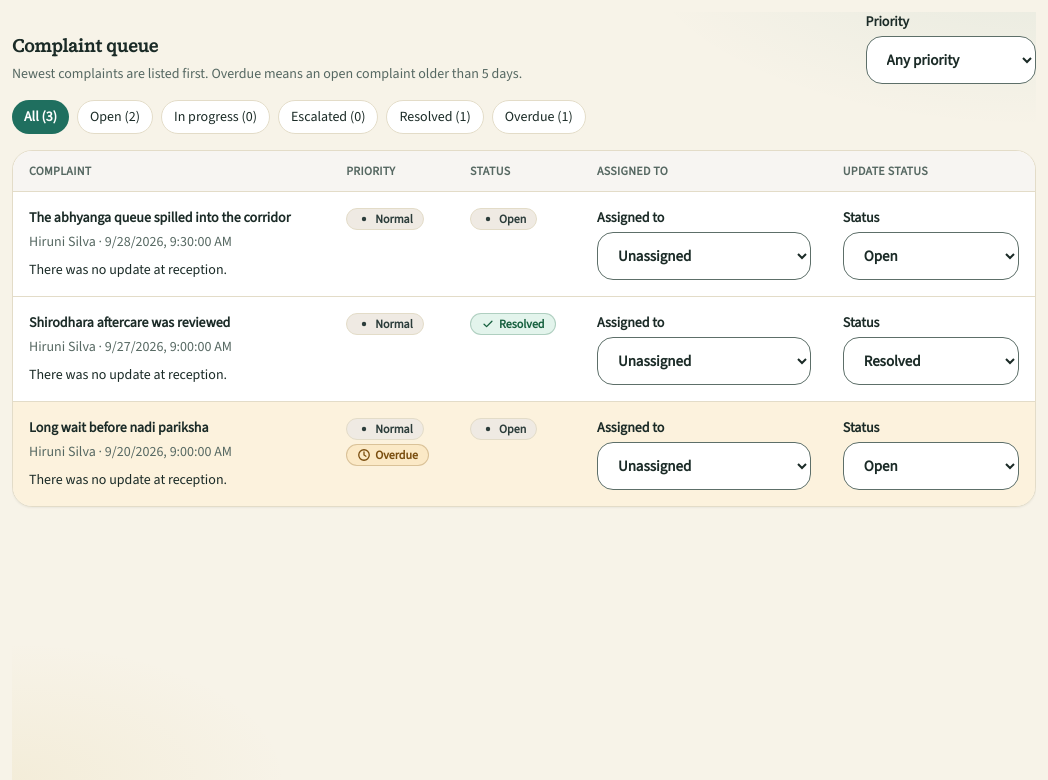
Test: ComplaintQueuePage › defaults to every complaint, newest first, with a count on each chip
expect the heading "The abhyanga queue spilled into the corridor" is shown: met, box [29,208,314,228]
expect the heading "Long wait before nadi pariksha" is shown: met, box [29,418,208,437]
Click the button "Overdue (1)" at (539, 117), box [492,100,586,134]
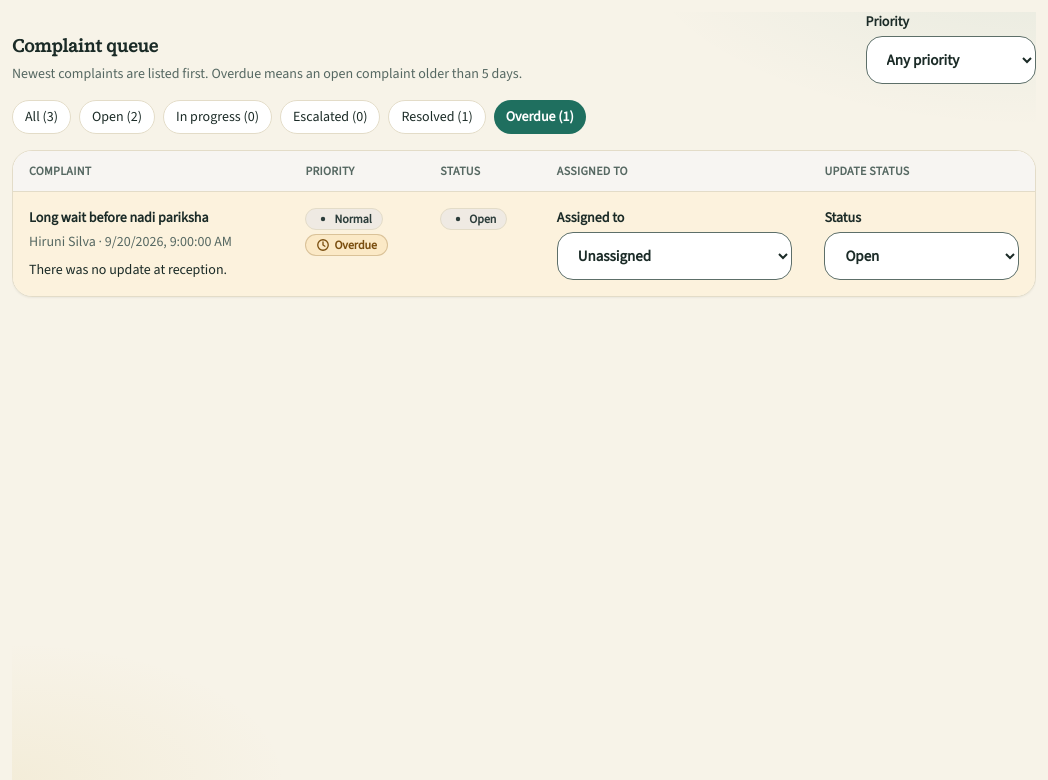
expect the heading "Long wait before nadi pariksha" is shown: met, box [29,208,208,227]
expect the heading "The abhyanga queue spilled into the corridor" is gone: met
Click the button "All (3)" at (42, 117), box [12,100,71,134]
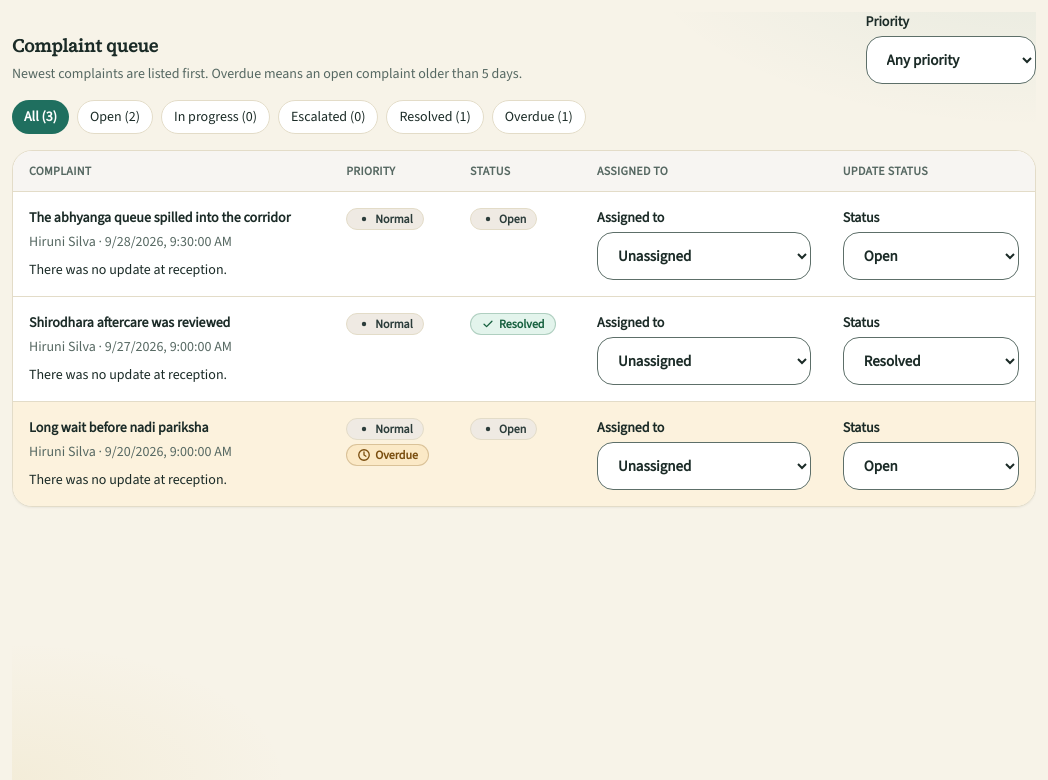
expect the heading "The abhyanga queue spilled into the corridor" is shown: met, box [29,208,314,228]
